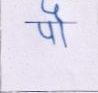ai_matra: (41, 0, 67, 21)
